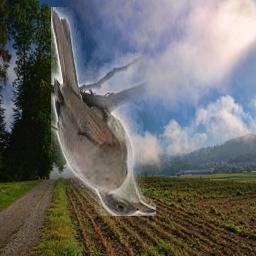Cuckoo: (52, 8, 157, 217)
